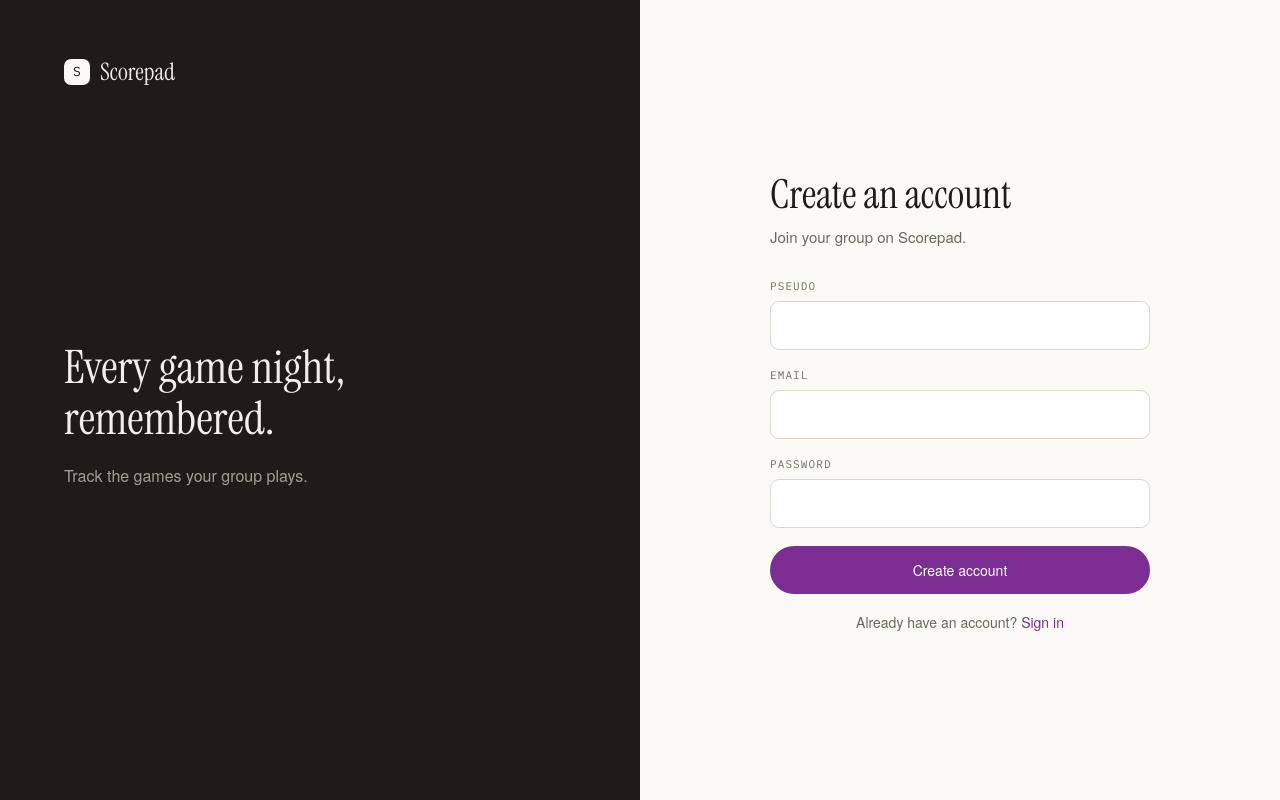
Test: signup › shows the error returned by the API
Type "toto" into the field labelled "Pseudo".
click(960, 326); type("toto")  # box [770,301,1150,350]
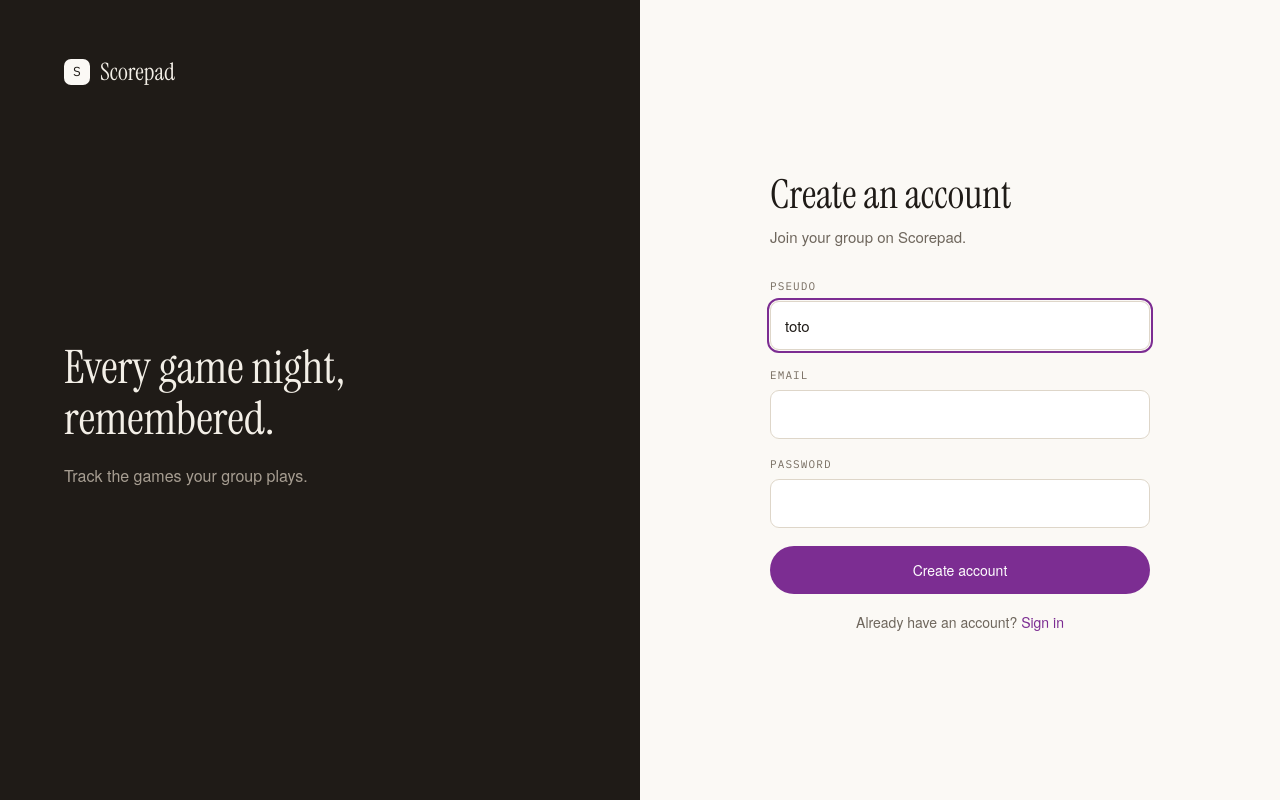
Type "toto@example.com" into the field labelled "Email".
click(960, 414); type("toto@example.com")  # box [770,390,1150,439]
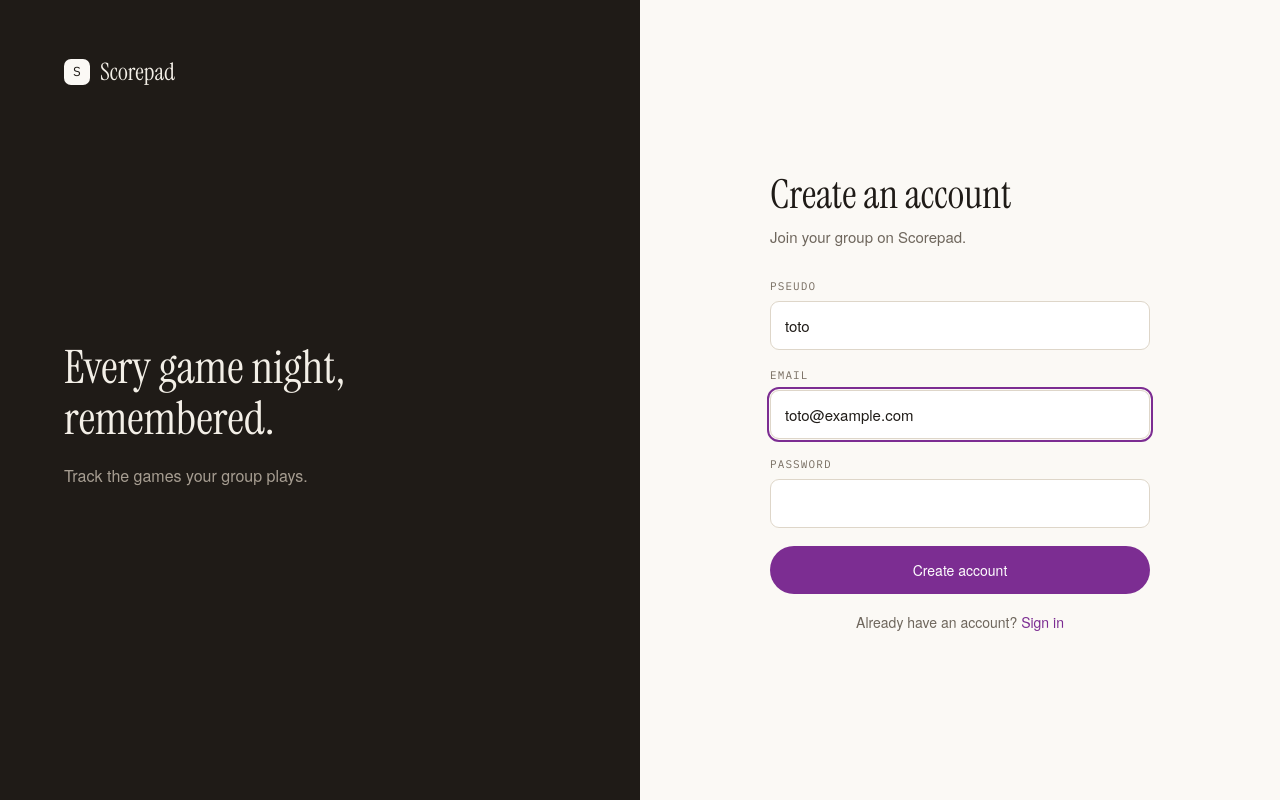
Type "securepassword123" into the password field labelled "Password".
click(960, 504); type("securepassword123")  # box [770,479,1150,528]
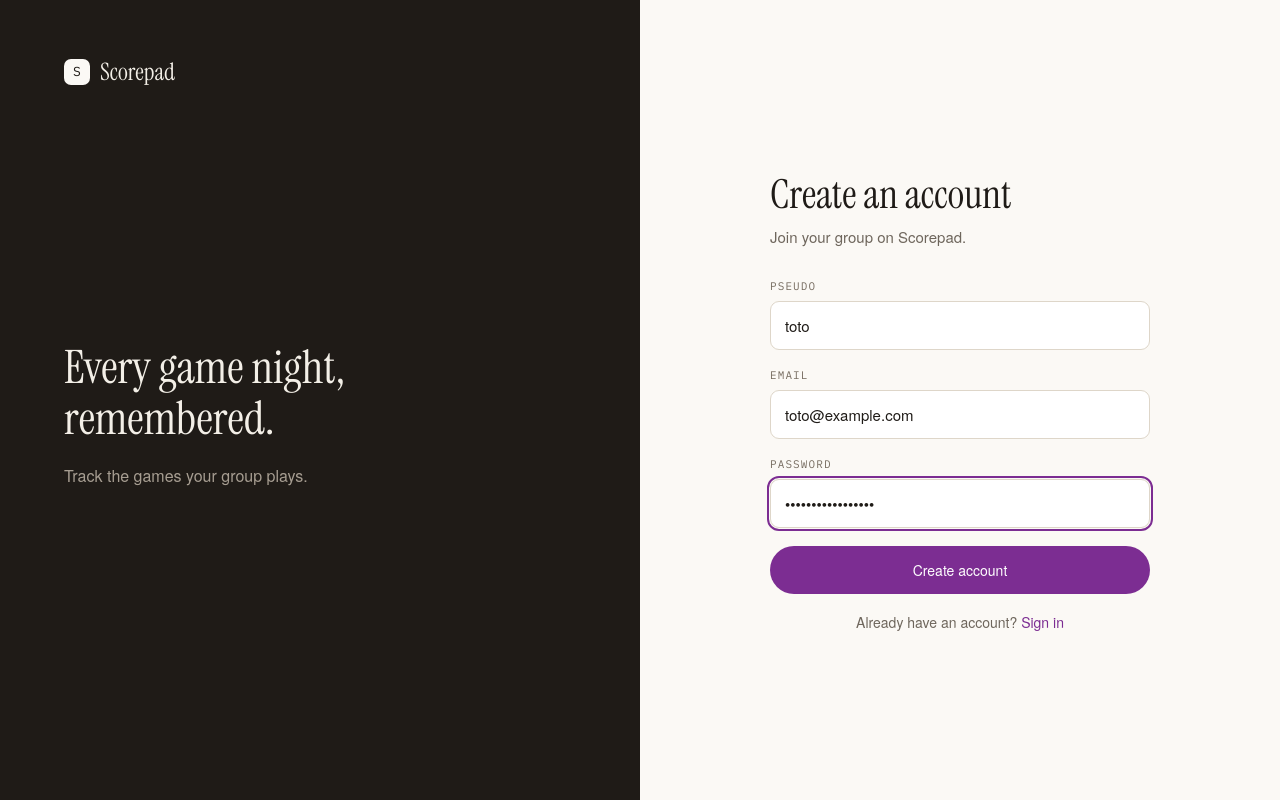
Click the button "Create account".
click(960, 570)  # box [770,546,1150,594]
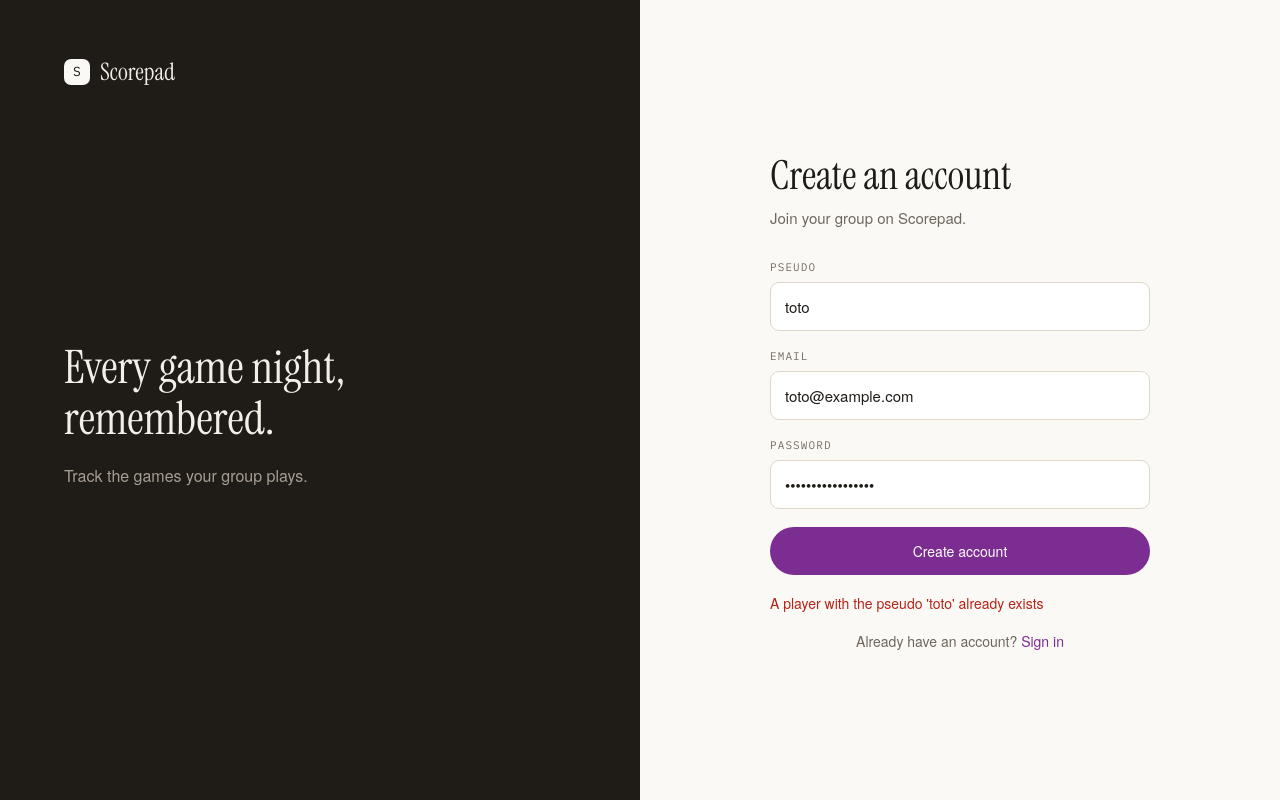
Check: the message shows "already exists", box [770,593,1044,613]
